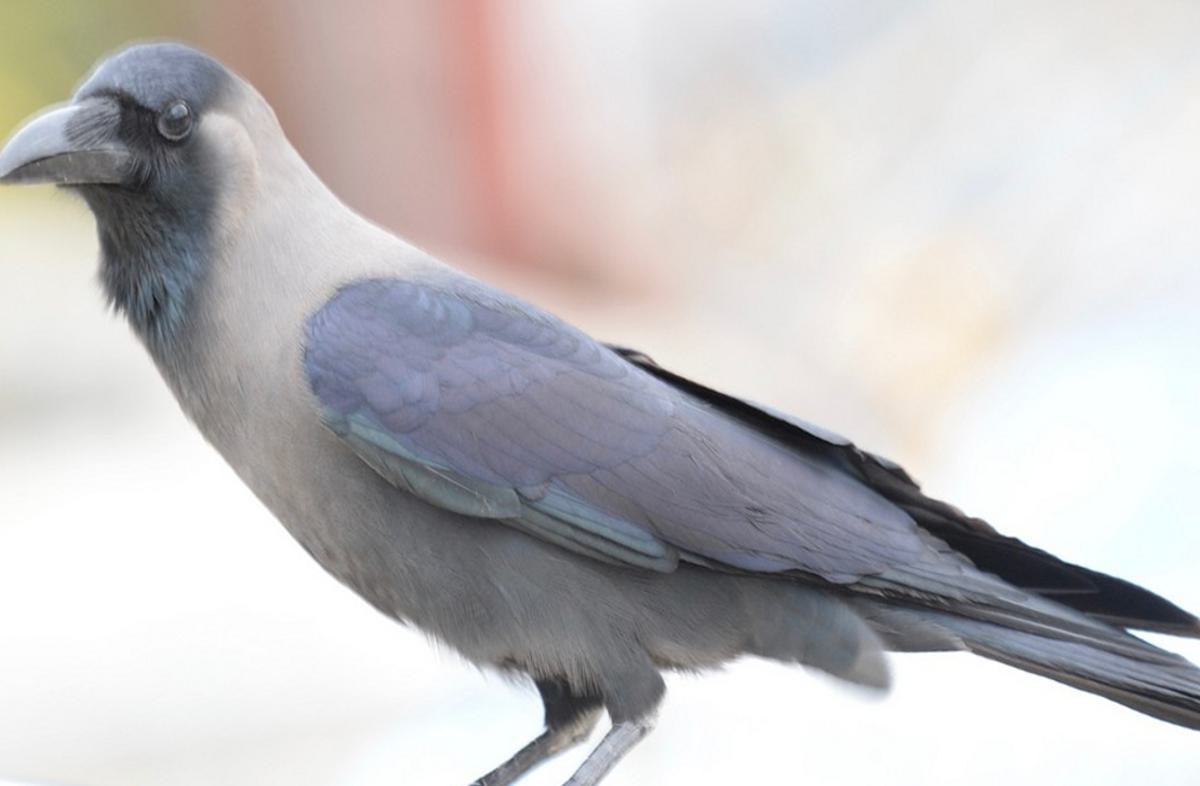crow: (5, 38, 1200, 780)
